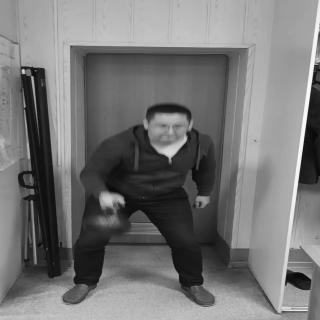girya: (89, 201, 134, 238)
